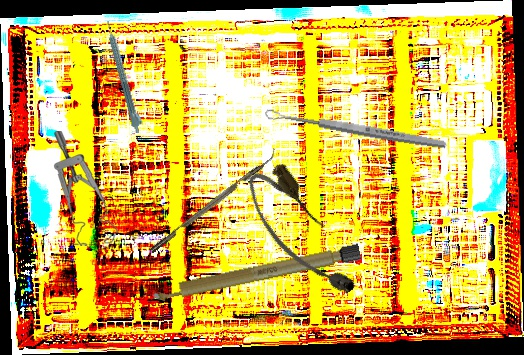Cannula: (237, 157, 365, 311)
Chopper: (144, 146, 281, 254)
Handpiece: (103, 18, 147, 135)
Scalpel Handle: (150, 243, 362, 304)
Speculum: (49, 130, 121, 248)
Surgical Spoon: (264, 107, 448, 151)
